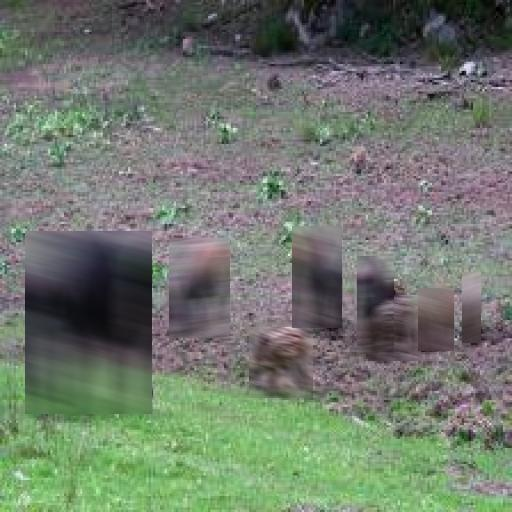Pig: (25, 231, 152, 414), (169, 238, 230, 338), (292, 226, 342, 328), (249, 327, 313, 398), (357, 256, 394, 354), (368, 295, 421, 361), (418, 288, 454, 351), (462, 272, 481, 343)
